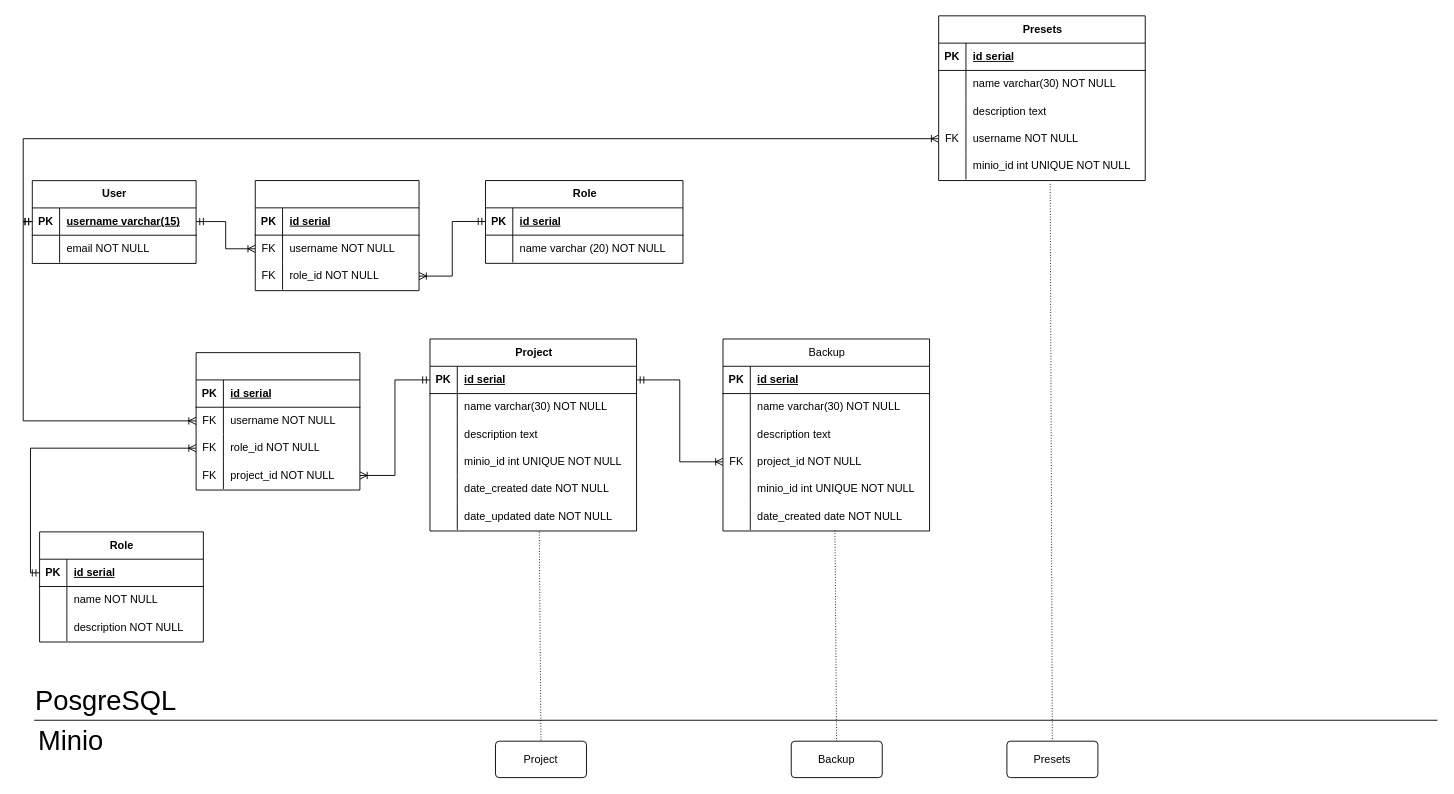
Image size: 1454x794. Some labels were removed from this diagram. Here are the shapes that lost their labels. From the top down, the box of each, then its label:
(254, 180, 419, 291): SystemUserRole
(195, 352, 360, 490): ProjectUserRole
